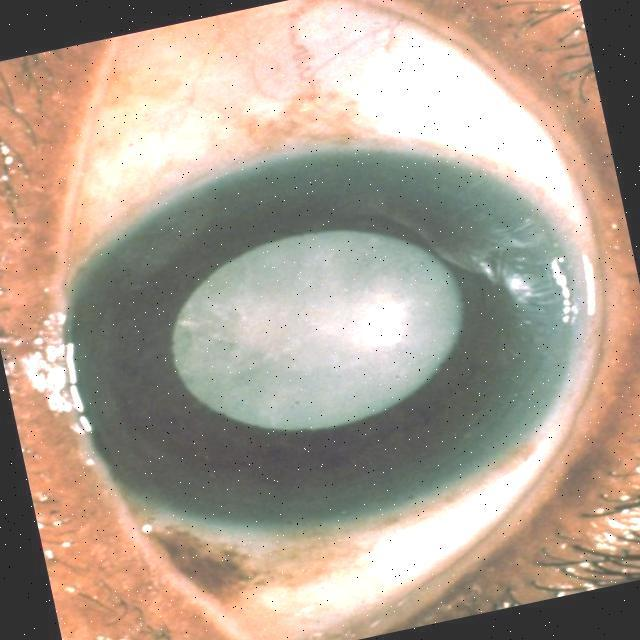Cataract: (61, 97, 624, 572)
